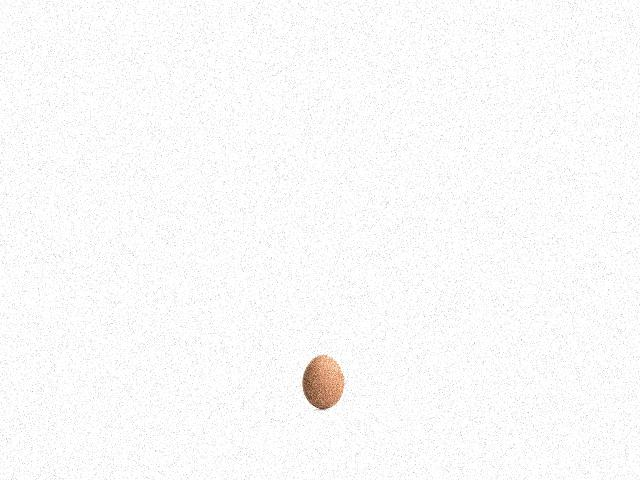egg: (302, 355, 343, 409)
